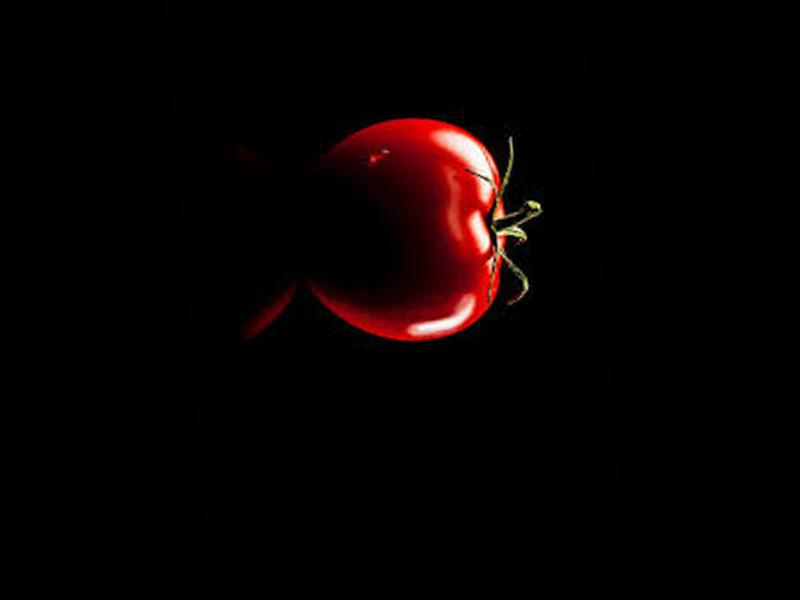Tomato: (301, 110, 519, 347)
